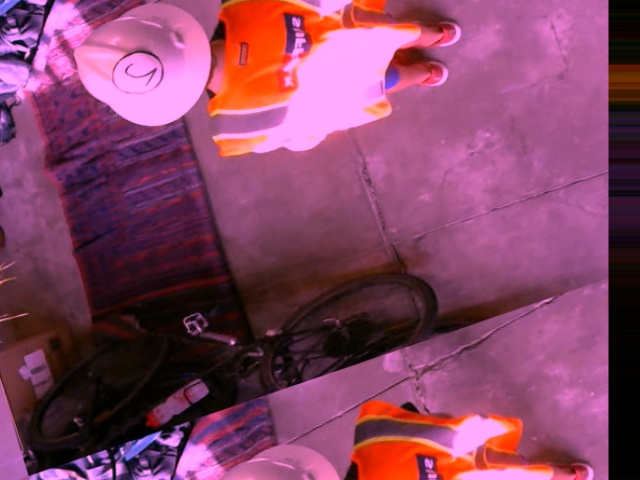two: (104, 44, 167, 104)
